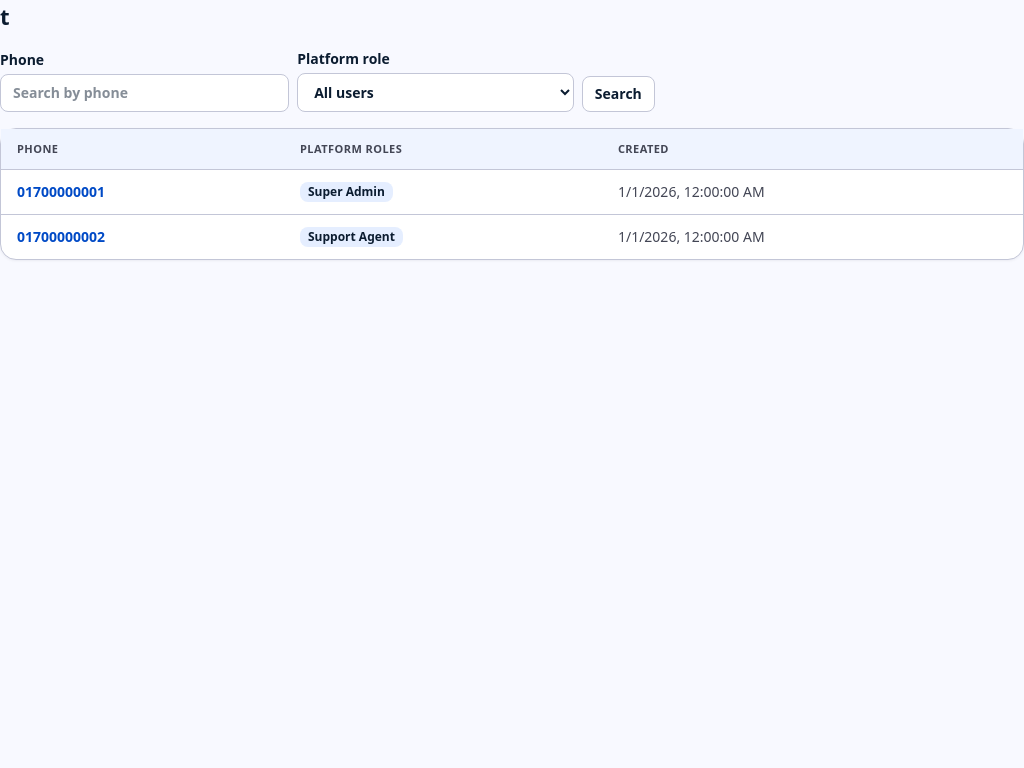
it: UsersScreen › revokes after confirmation and shows the backend code when auth-service refuses
Click the button "01700000002".
click(61, 237)  # box [17,227,105,247]
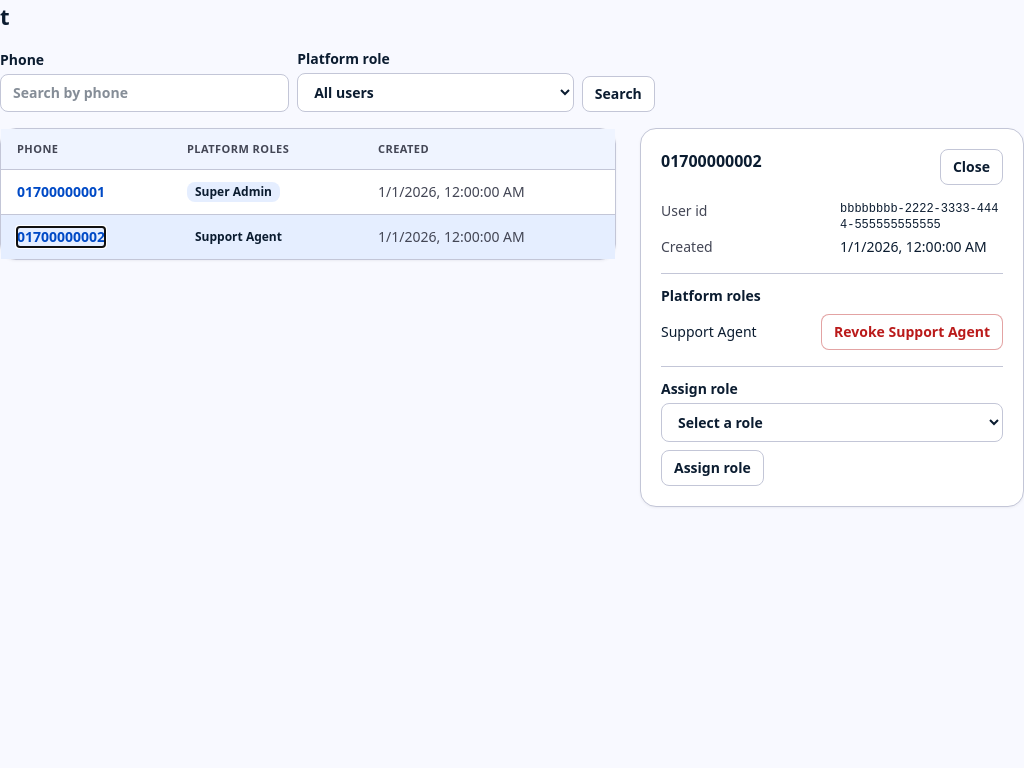
Click the button "Revoke Support Agent".
click(912, 332)  # box [821,314,1003,350]
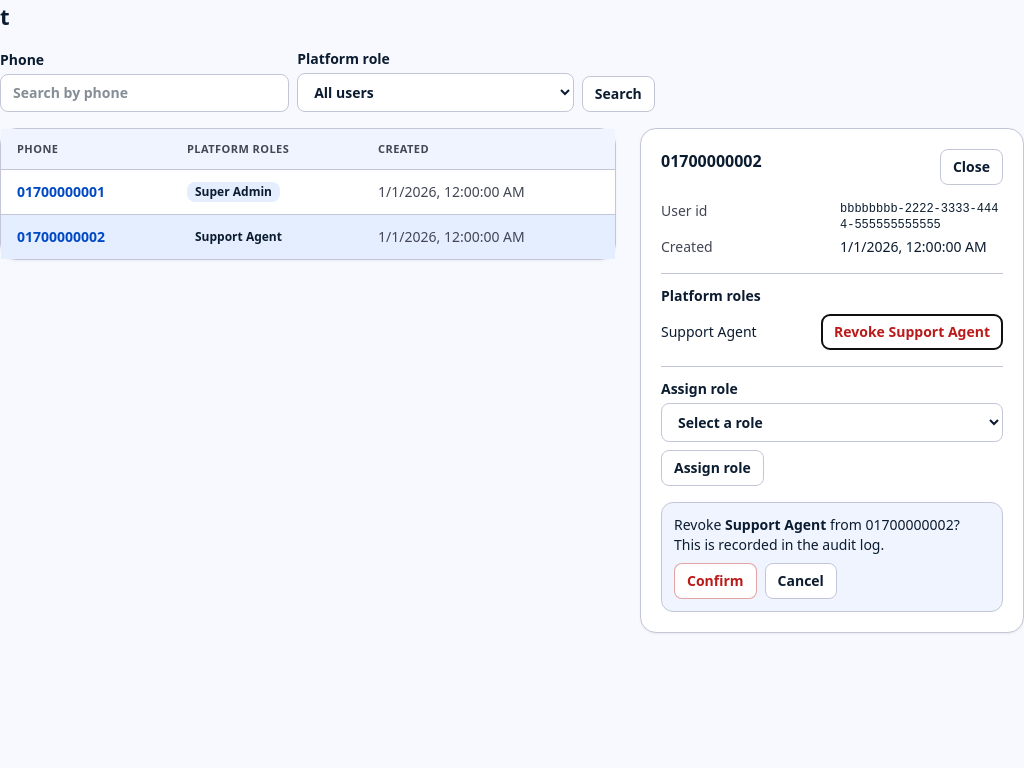
Click the button "Confirm".
click(715, 581)  # box [674,563,757,599]
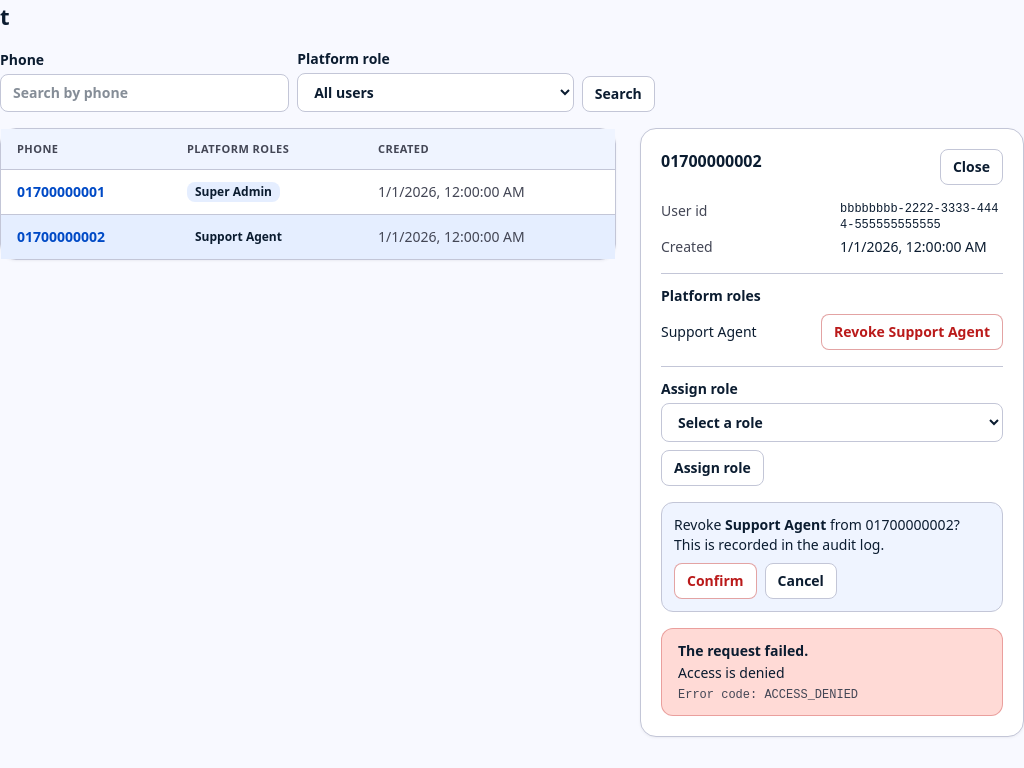
Expected: the text "Error code: ACCESS_DENIED" is shown, [678,688,858,702]
Click the button "Confirm".
click(715, 581)  # box [674,563,757,599]
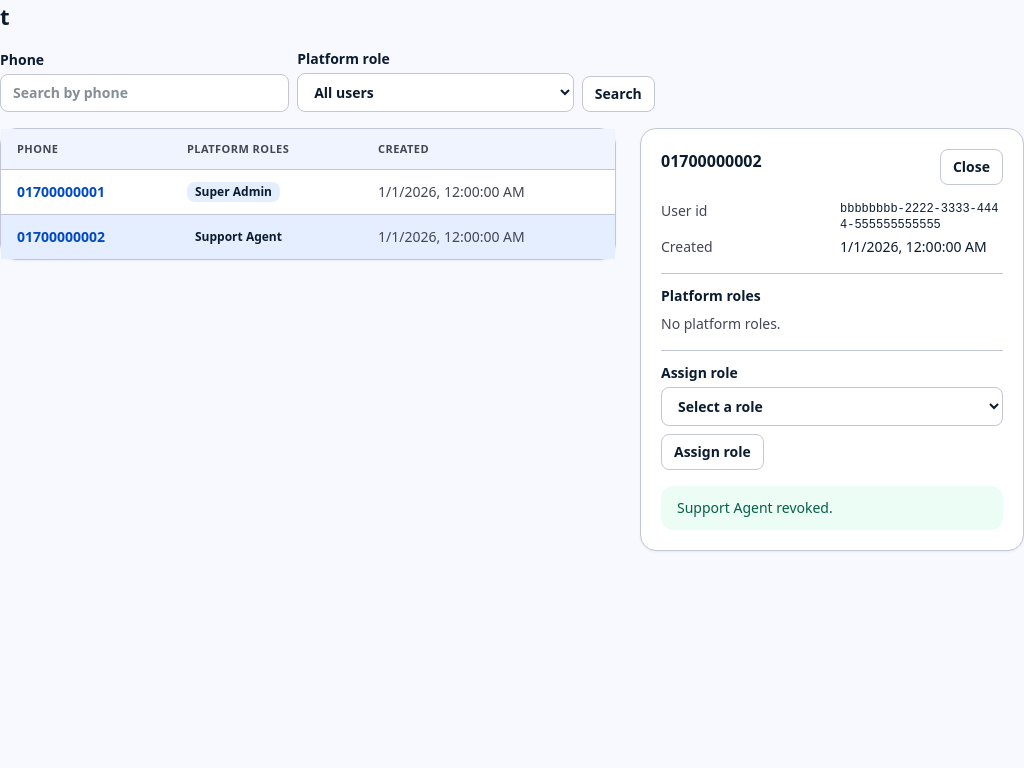
Expected: the text "Support Agent revoked." is shown, [661,486,1003,530]
Expected: the text "No platform roles." is shown, [661,314,781,333]
